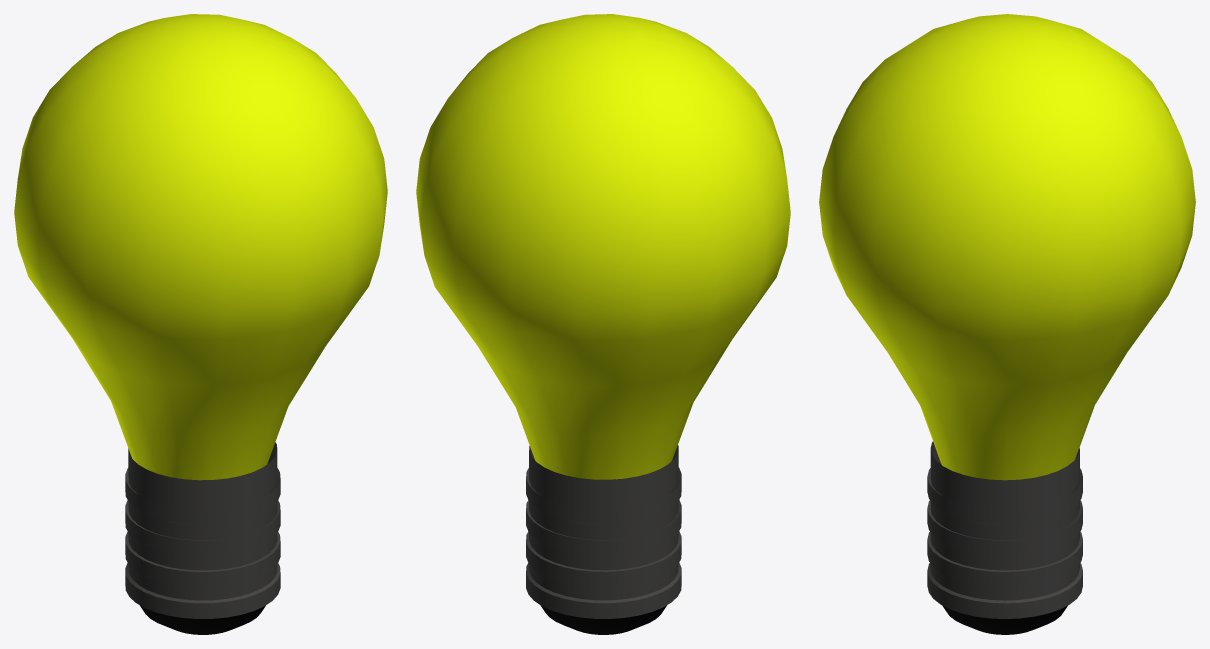
Rendered from LampElectric.fbx.
The picture shows the model from 3 angles, left to right: view 1: azimuth 30°, elevation 25°; view 2: azimuth 150°, elevation 25°; view 3: azimuth 270°, elevation 25°; orthographic projection.
Parts seen in each view (by area): view 1: Lamp.001; view 2: Lamp.001; view 3: Lamp.001.
Part boxes in pixels (x1=…): Lamp.001: x1=14, y1=14, x2=387, y2=634; Lamp.001: x1=416, y1=14, x2=790, y2=634; Lamp.001: x1=819, y1=14, x2=1195, y2=634.
Size of the model in its own units: 62.27 by 108 by 62.27.
